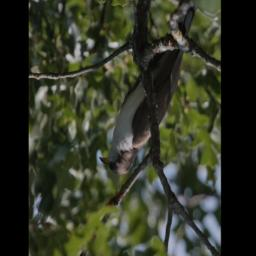Cuckoo: (98, 0, 208, 176)
